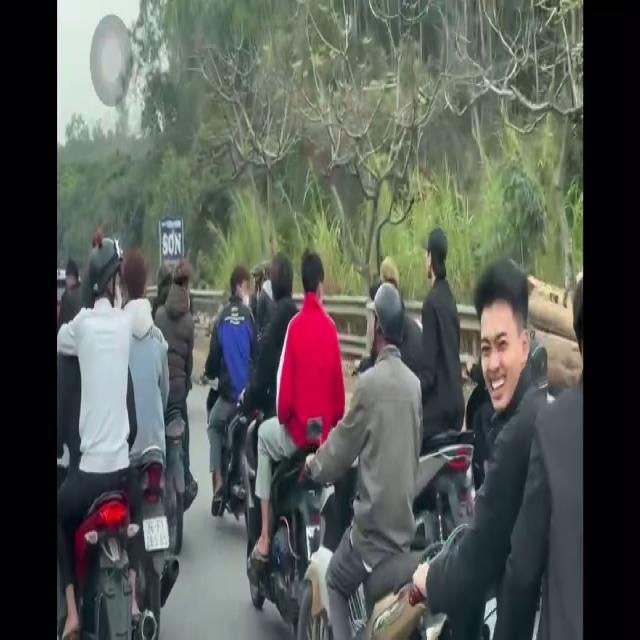helmet: (369, 280, 404, 381), (88, 228, 121, 329)
no_helmet: (475, 265, 528, 422), (300, 250, 325, 320), (271, 249, 296, 313), (228, 262, 250, 326)
